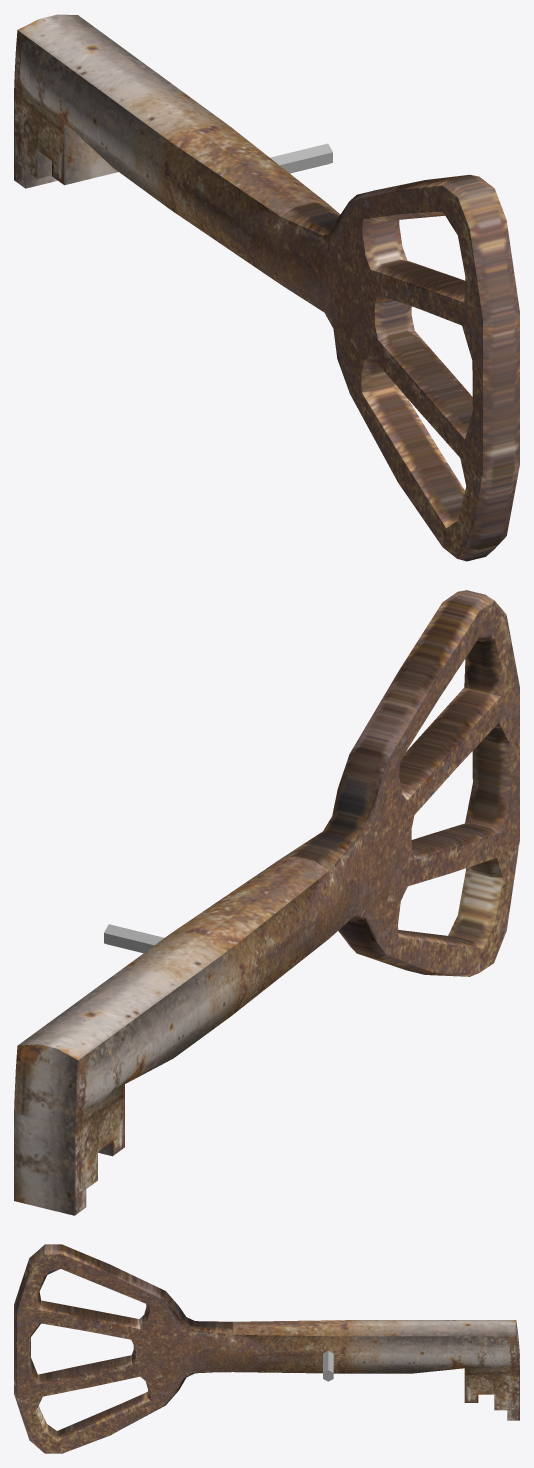
File: KeyComplete.fbx
3 views of the same model, one above another, from view 1: azimuth 30°, elevation 25°; view 2: azimuth 150°, elevation 25°; view 3: azimuth 270°, elevation 25° (orthographic). The views are drawn at different scales.
Parts seen in each view (by area): view 1: KeyComplete; view 2: KeyComplete; view 3: KeyComplete.
Part boxes in pixels (x1,y1,x2,y2): KeyComplete: (14,14,519,561); KeyComplete: (14,590,519,1215); KeyComplete: (14,1244,519,1453).
Bounding box in the file's own units: 7.4 × 17.73 × 39.84.
Materials: 1 (1 with a texture image).
